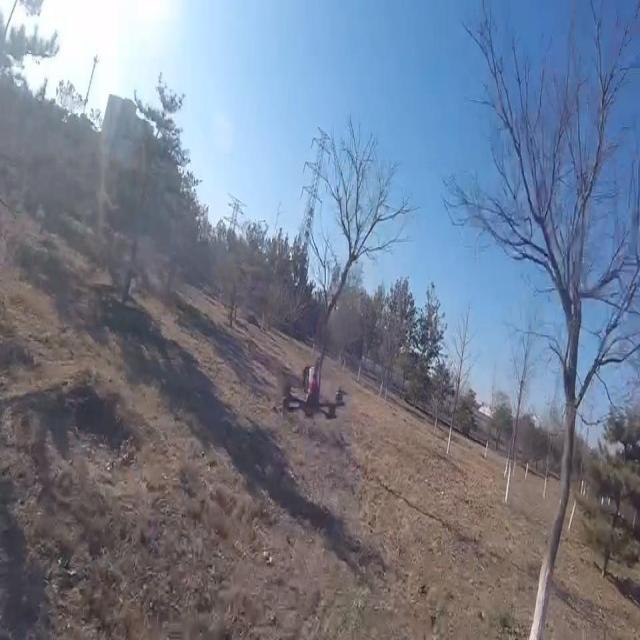drone: (273, 356, 350, 428)
